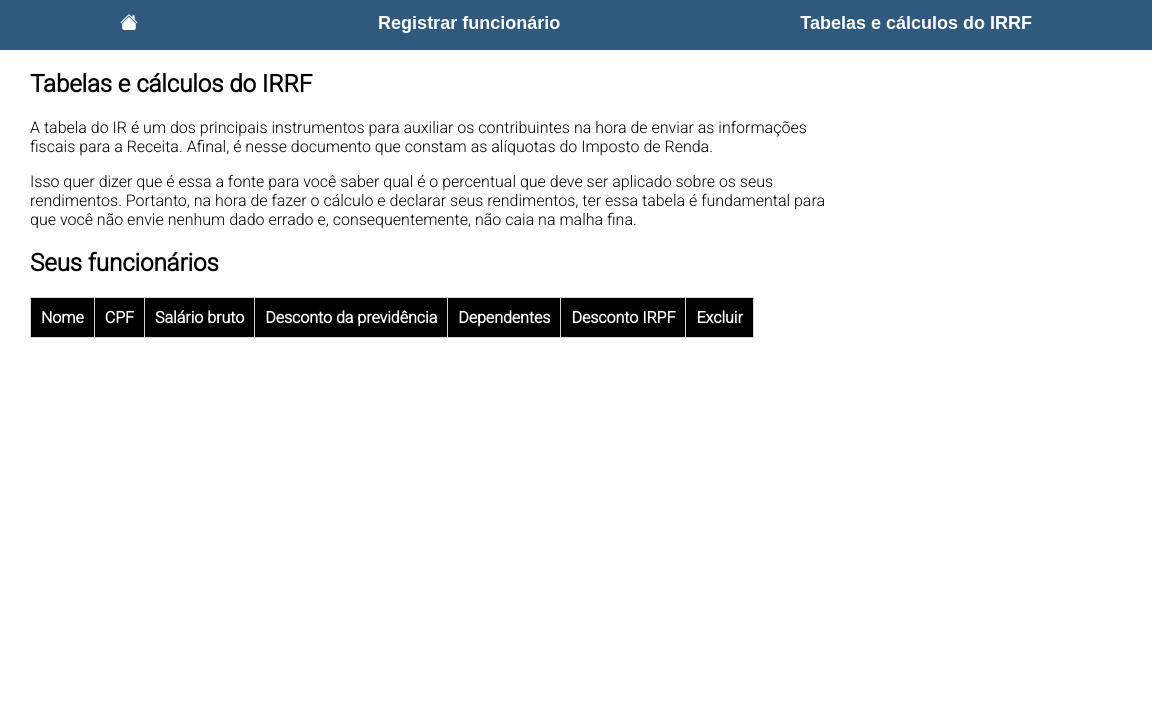
a página inicial possui botões que direcionam para página de adicionar funcionário e para a página com tabela do IRRF
Click the button "Registrar funcionário" at (469, 24), box [372, 12, 566, 35]
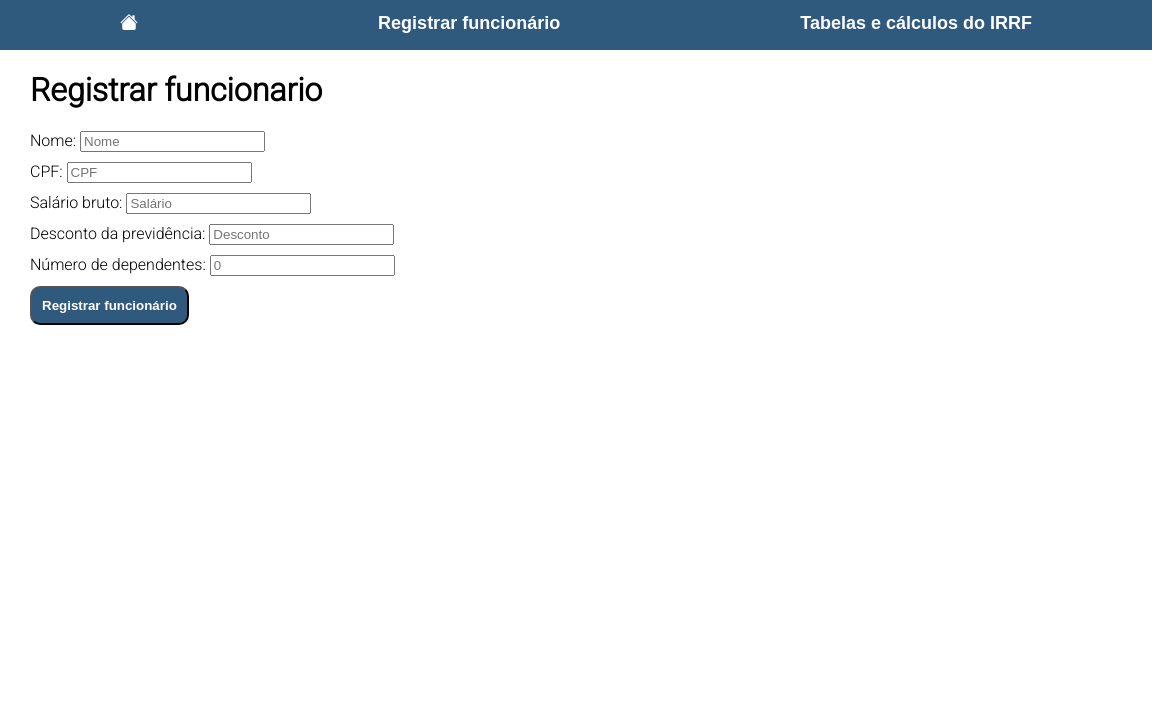
Expected: the heading "Registrar funcionario" is shown, [30, 71, 322, 109]
Click the button with test id "botao-pagina-inical" at (129, 24), box [114, 12, 144, 37]
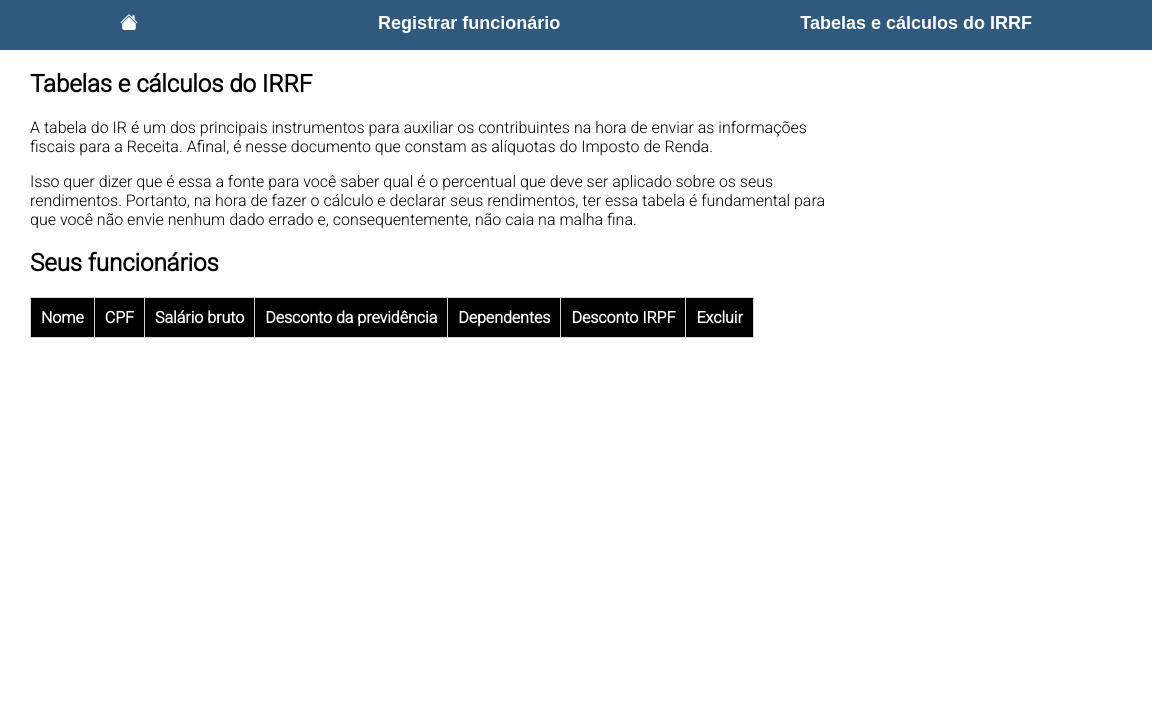
Click the button "Tabelas e cálculos do IRRF" at (916, 24), box [794, 12, 1038, 35]
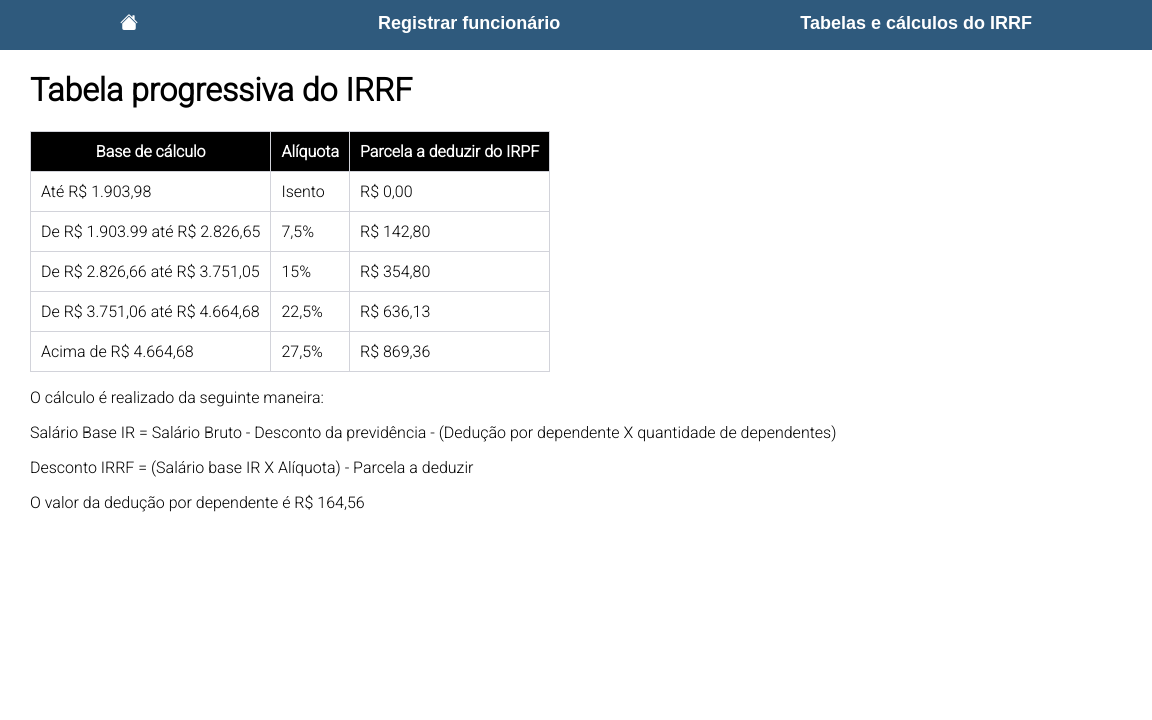
Expected: the heading "Tabela progressiva do IRRF" is shown, [30, 71, 412, 109]
